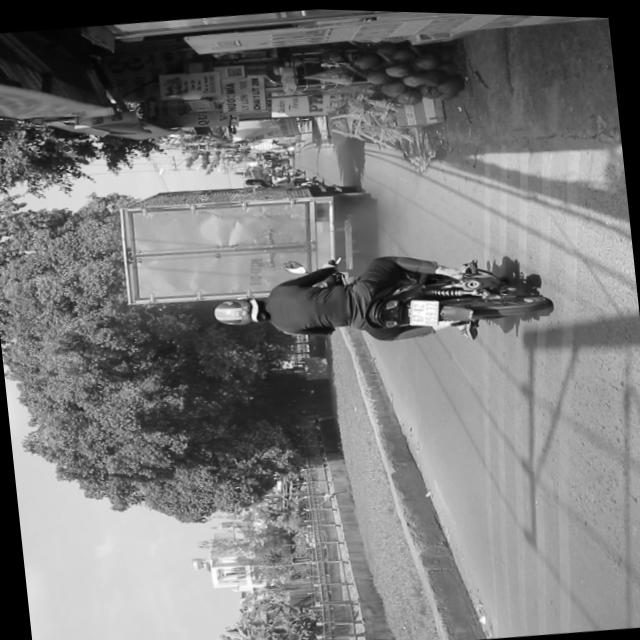helmet: (211, 292, 268, 328)
licenseplate: (203, 230, 557, 367)
nohelmet: (406, 294, 442, 326)
